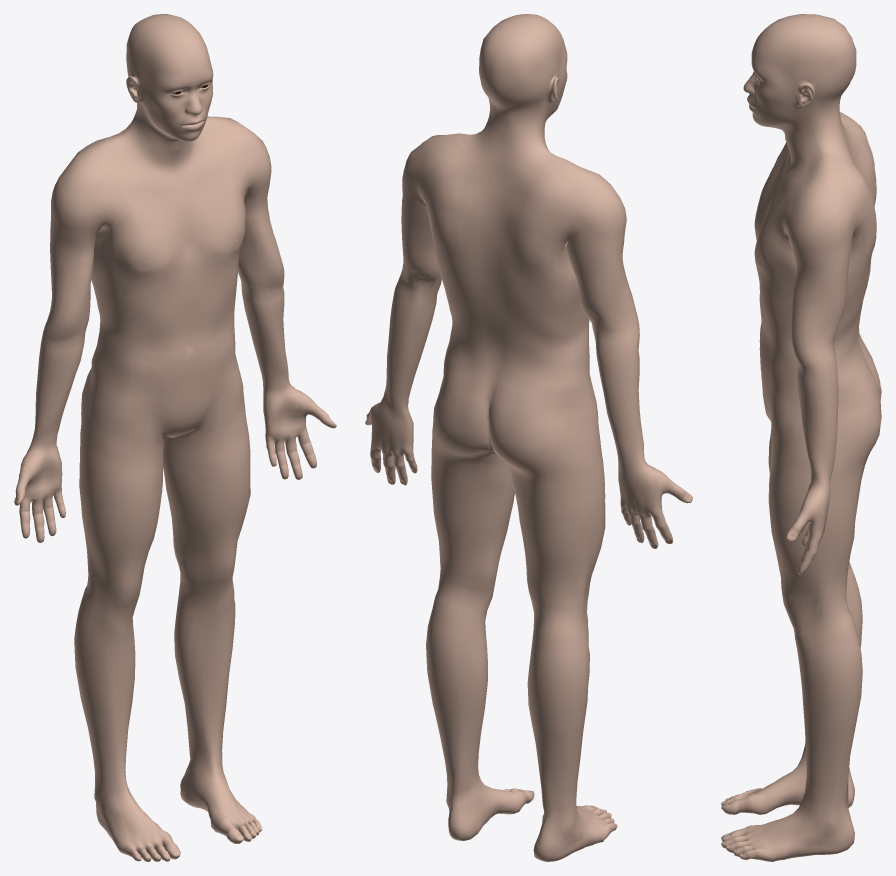
File: Anato3D_Male_30_Fase1.glb
3 views of the same model, side by side, from view 1: azimuth 30°, elevation 25°; view 2: azimuth 150°, elevation 25°; view 3: azimuth 270°, elevation 25° (orthographic).
Visible parts, largest first — view 1: Skin_Body; view 2: Skin_Body; view 3: Skin_Body.
Boxes of the visible parts, x1,y1,x2,y2 form: Skin_Body: (14, 14, 336, 861); Skin_Body: (365, 14, 692, 861); Skin_Body: (721, 14, 881, 861).
Bounding box in the file's own units: 0.7209 × 1.74 × 0.3099.
Materials: 2 (1 with a texture image).
